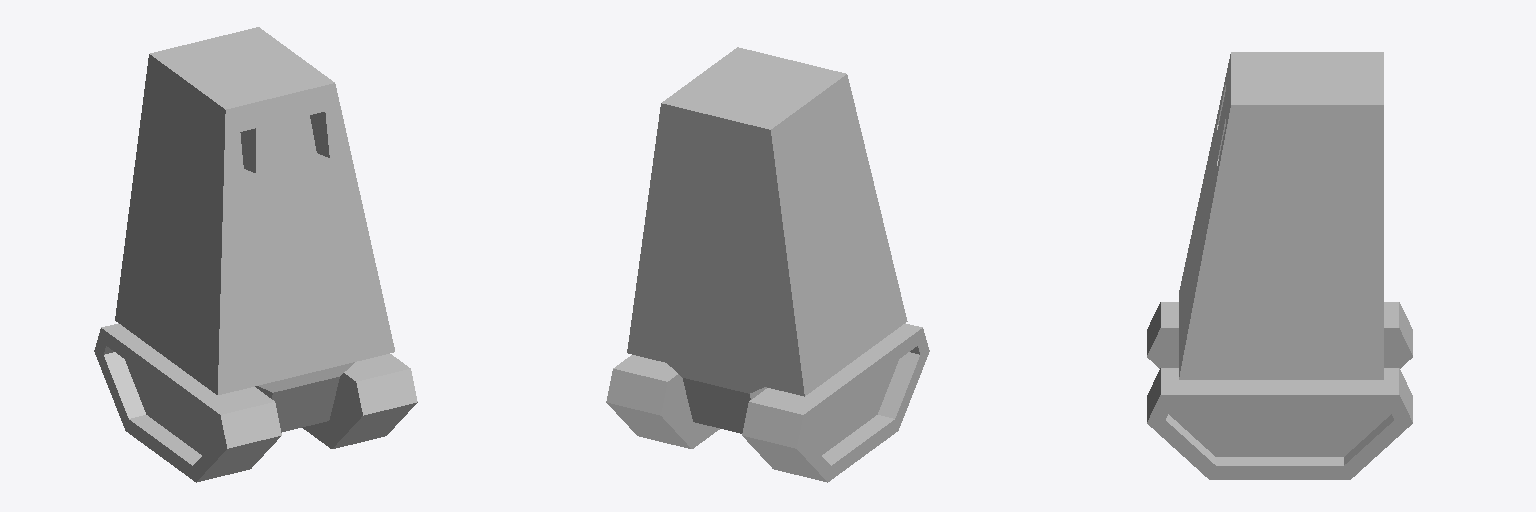
The model's file is Robbet.obj.
3 views of the same model, side by side, from view 1: azimuth 30°, elevation 25°; view 2: azimuth 150°, elevation 25°; view 3: azimuth 270°, elevation 25° (orthographic).
Visible parts, largest first — view 1: Cube_Cube.001, Cube.001_Cube.002, Cube.002_Cube.005; view 2: Cube_Cube.001, Cube.001_Cube.002, Cube.002_Cube.005; view 3: Cube_Cube.001, Cube.002_Cube.005, Cube.001_Cube.002.
Part boxes in pixels (x1,y1,x2,y2): Cube_Cube.001: (115,27,394,432); Cube.001_Cube.002: (94,323,281,482); Cube.002_Cube.005: (302,354,417,448); Cube_Cube.001: (627,47,907,433); Cube.001_Cube.002: (742,323,929,482); Cube.002_Cube.005: (606,355,719,448); Cube_Cube.001: (1179,52,1383,379); Cube.002_Cube.005: (1147,368,1412,479); Cube.001_Cube.002: (1147,302,1412,368).
Bounding box in the file's own units: 1.29 × 2.3 × 1.56.